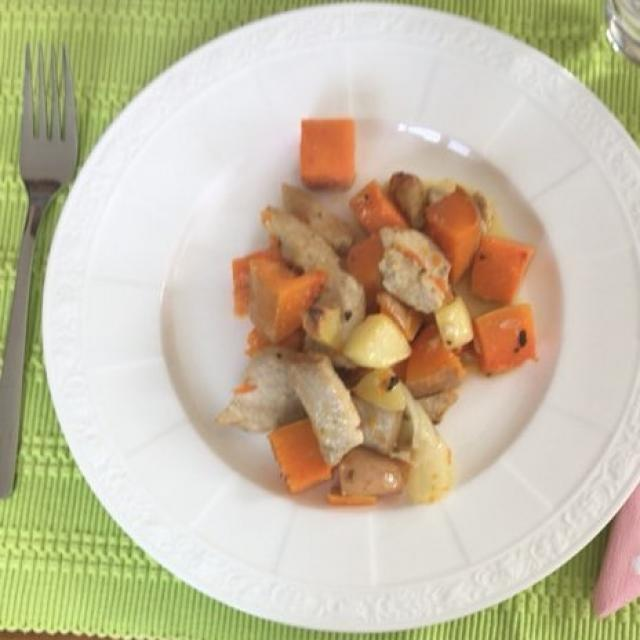chicken: (220, 182, 447, 461)
potatoes: (306, 309, 465, 506)
pumpkin: (217, 136, 534, 517)
